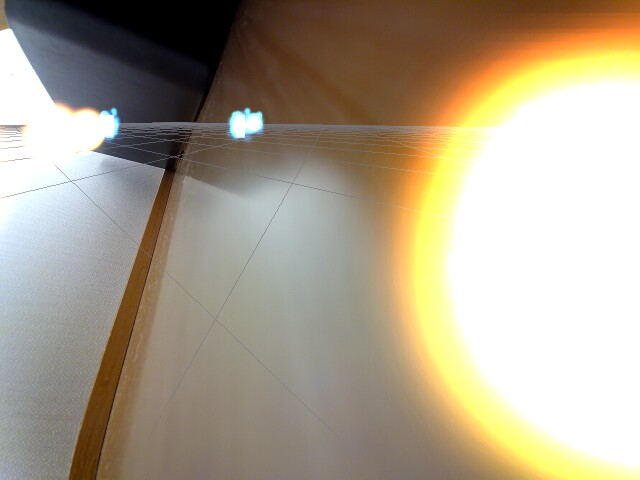fire: (393, 30, 639, 477)
